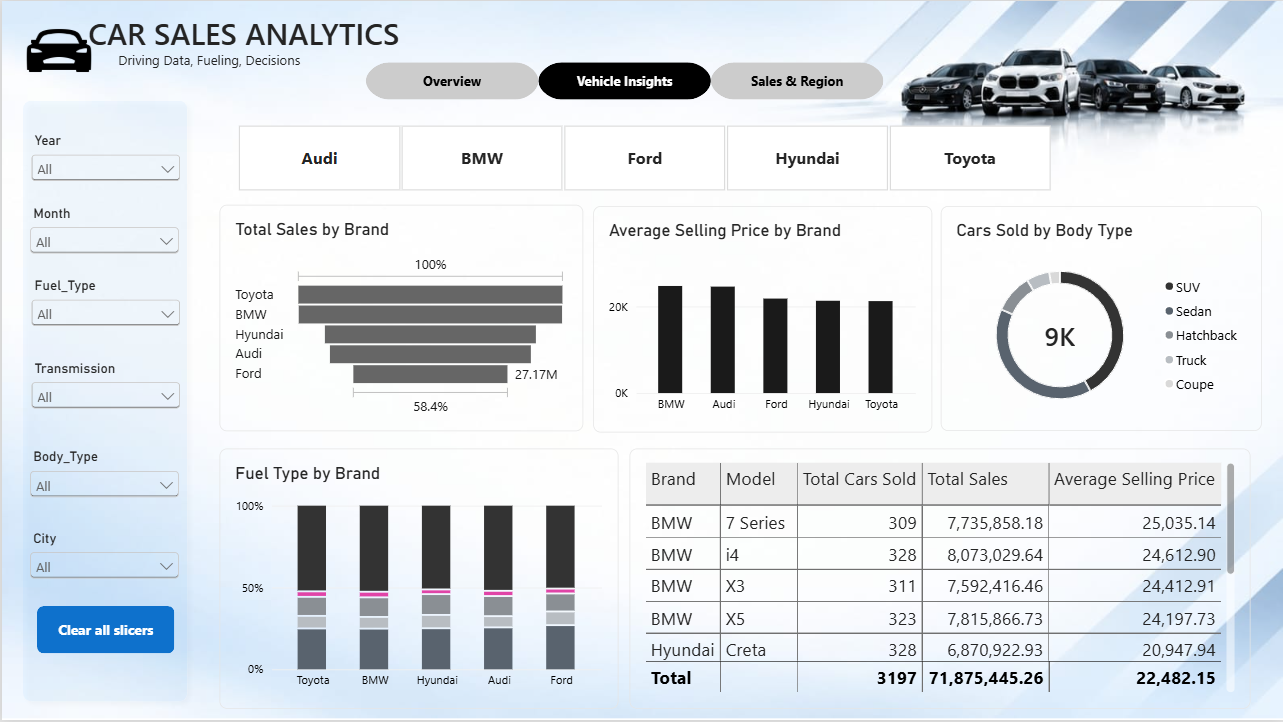

What the dashboard file says about the page in this screenshot:
{"tool":"powerbi","page":{"name":"Vehicle Insights","canvas":[1366,768],"ordinal":1},"visuals":[{"type":"funnel","title":"Total Sales by Brand","fields":{"Category":["Car Sales Data.Brand"],"Y":["Measure.Total Sales"]},"box":[232,217.3,388,241.3],"z":2000},{"type":"clusteredColumnChart","title":"Average Selling Price by Brand","fields":{"Category":["Car Sales Data.Brand"],"Y":["Measure.Average Selling Price"]},"box":[630.7,218.7,361.3,241.3],"z":4000},{"type":"hundredPercentStackedColumnChart","title":"Fuel Type by Brand","fields":{"Category":["Car Sales Data.Brand"],"Series":["Car Sales Data.Fuel_Type"],"Y":["Measure.Total Cars Sold"]},"box":[232,477.3,425.3,277.3],"z":5000},{"type":"tableEx","fields":{"Values":["Car Sales Data.Brand","Car Sales Data.Model","Measure.Total Cars Sold","Measure.Total Sales","Measure.Average Selling Price"]},"box":[669.3,477.3,662.7,277.3],"z":6000},{"type":"shape","box":[13.3,97.3,193.3,658.7],"z":6005},{"type":"slicer","fields":{"Values":["Car Sales Data.Brand"]},"box":[232,130.7,905.3,73.3],"z":6010},{"type":"donutChart","title":"Cars Sold by Body Type","fields":{"Category":["Car Sales Data.Body_Type"],"Y":["Measure.Total Cars Sold"]},"box":[1001.3,218.7,342.7,240],"z":6011},{"type":"slicer","fields":{"Values":["Car Sales Data.Year"]},"box":[26.7,140,168,64],"z":6012},{"type":"slicer","fields":{"Values":["Car Sales Data.Month"]},"box":[25.3,217.3,168,64],"z":6013},{"type":"slicer","fields":{"Values":["Car Sales Data.Fuel_Type"]},"box":[26.7,294.7,168,64],"z":6014},{"type":"slicer","fields":{"Values":["Car Sales Data.Transmission"]},"box":[26.7,382.7,168,64],"z":6015},{"type":"slicer","fields":{"Values":["Car Sales Data.Body_Type"]},"box":[25.3,477.3,168,64],"z":6016},{"type":"slicer","fields":{"Values":["Car Sales Data.City"]},"box":[25.3,564,168,64],"z":6017},{"type":"actionButton","box":[37.3,645.3,146.7,50.7],"z":6018},{"type":"image","box":[12,16,97.3,73.3],"z":6019},{"type":"textbox","box":[92,12,368,57.3],"z":6020},{"type":"textbox","box":[124,53.3,214.7,32],"z":6021},{"type":"actionButton","box":[388,65.3,184.4,39.9],"z":6022},{"type":"actionButton","box":[572,65.3,184.4,39.9],"z":6023},{"type":"actionButton","box":[756,65.3,184.4,39.9],"z":6024}]}

Visuals, with their boxes in screenshot pixels (x1, y1, x2, y2), scaled from the page's 1366x768 canvas onto the 1283x722 screenshot:
"Total Sales by Brand" funnel: 218,204,582,431
"Average Selling Price by Brand" clusteredColumnChart: 592,206,932,432
"Fuel Type by Brand" hundredPercentStackedColumnChart: 218,449,617,709
tableEx - Car Sales Data.Brand x Car Sales Data.Model: 629,449,1251,709
shape: 12,91,194,711
slicer - Car Sales Data.Brand: 218,123,1068,192
"Cars Sold by Body Type" donutChart: 940,206,1262,431
slicer - Car Sales Data.Year: 25,132,183,192
slicer - Car Sales Data.Month: 24,204,182,264
slicer - Car Sales Data.Fuel_Type: 25,277,183,337
slicer - Car Sales Data.Transmission: 25,360,183,420
slicer - Car Sales Data.Body_Type: 24,449,182,509
slicer - Car Sales Data.City: 24,530,182,590
actionButton: 35,607,173,654
image: 11,15,103,84
textbox: 86,11,432,65
textbox: 116,50,318,80
actionButton: 364,61,538,99
actionButton: 537,61,710,99
actionButton: 710,61,883,99
